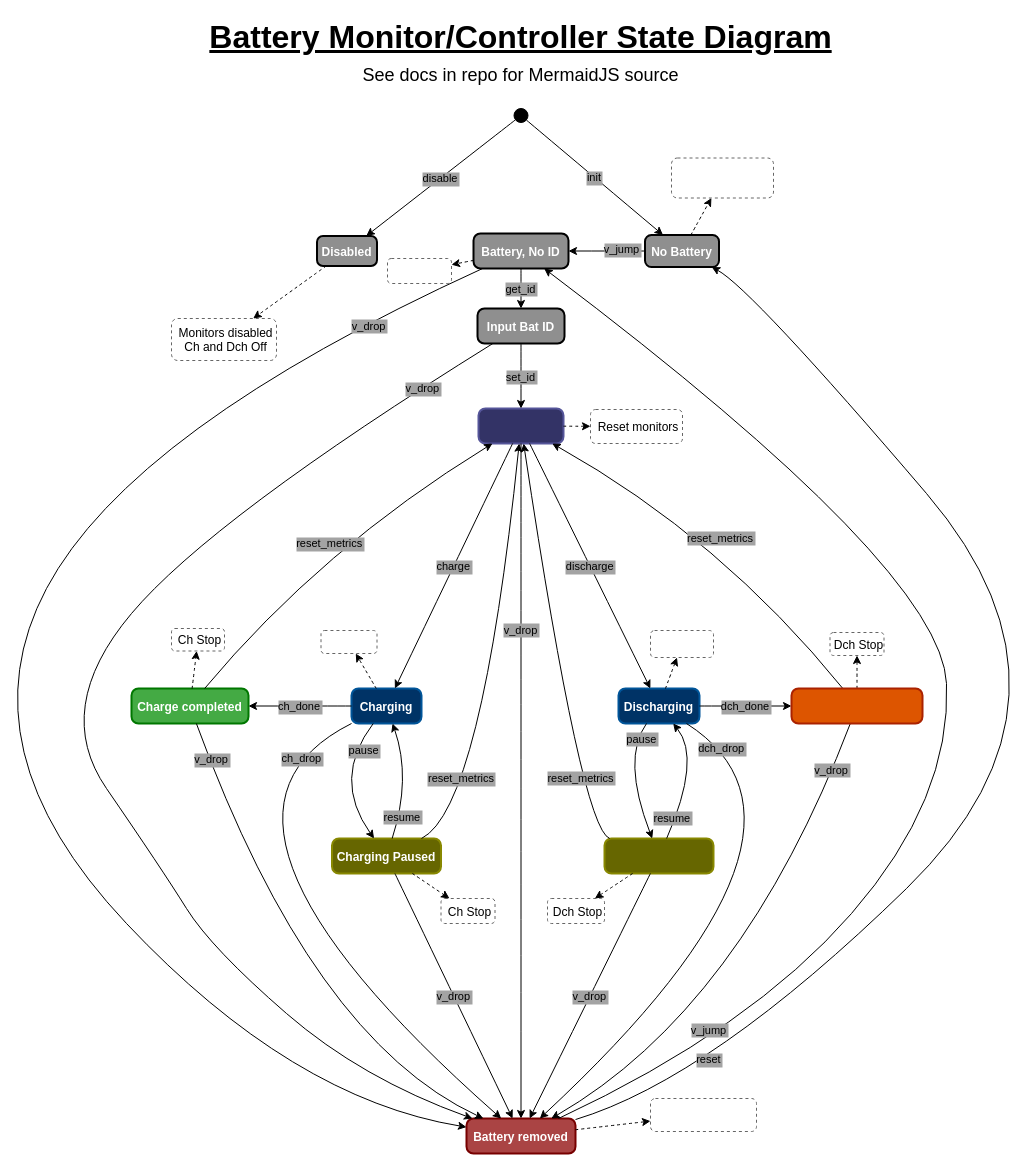
Image size: 1027x1171. Some labels were removed from this diagram. The centre of each missing label's shape, as x and y in pixels:
"Battery + ID" belongs at pixel 520 425.
"Ch and Dch Stop" belongs at pixel 703 1115.
"Ch and Dch Stop Reset Bat ID" belongs at pixel 722 177.
"Ch Start" belongs at pixel 348 642.
"Dch Sart" belongs at pixel 682 644.
"Disharge Completed" belongs at pixel 856 705.
"Disharging Paused" belongs at pixel 658 855.
"Gen Bat ID" belongs at pixel 419 271.
